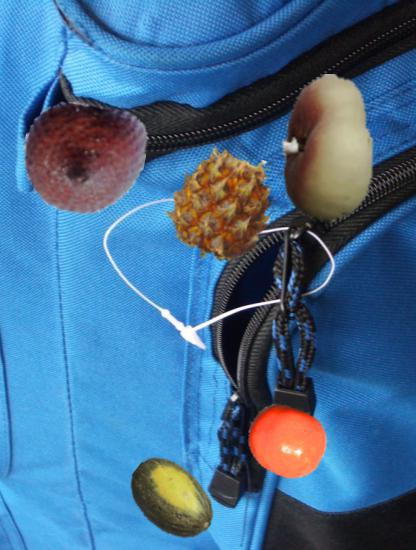Clementine: (247, 401, 327, 481)
Melon: (125, 453, 219, 547)
Peach: (254, 74, 402, 222)
Pineapple: (166, 149, 278, 261)
Salak: (23, 97, 145, 219)
